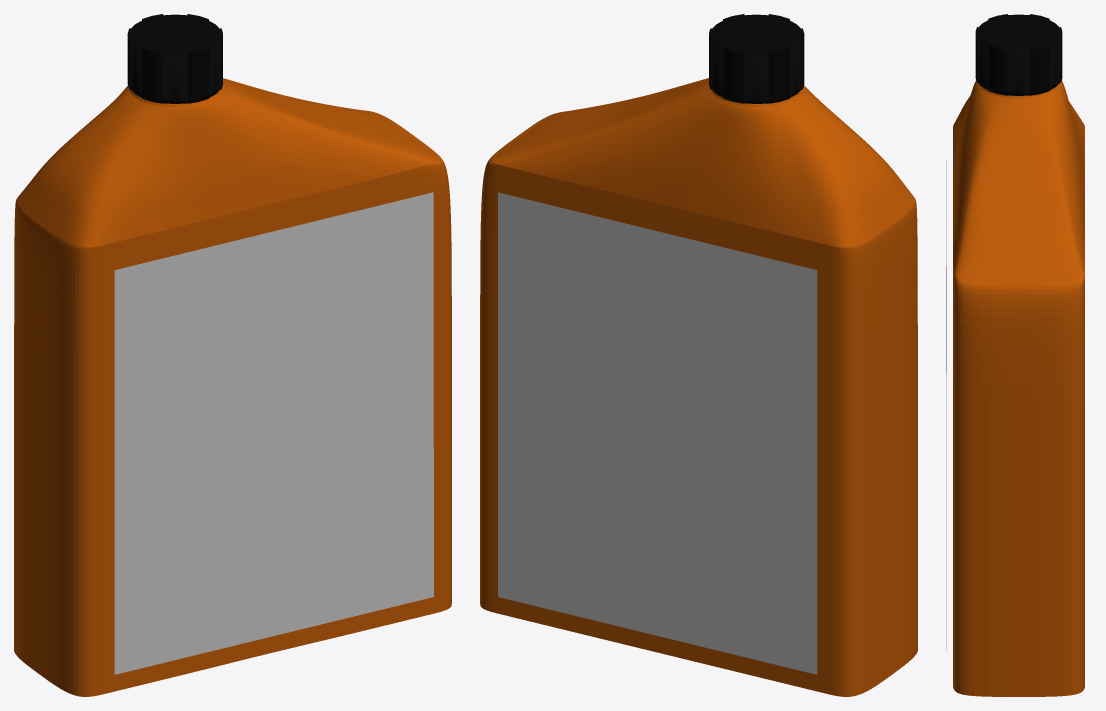
Rendered from tarroaceite2.obj.
3 renders of one model, left to right at view 1: azimuth 30°, elevation 25°; view 2: azimuth 150°, elevation 25°; view 3: azimuth 270°, elevation 25°, orthographic. The views are drawn at different scales.
Parts seen in each view (by area): view 1: fondoAceite, cuerpoTarro, tapa; view 2: fondoAceite.001, cuerpoTarro, tapa; view 3: cuerpoTarro, tapa, fondoAceite.
Boxes of the visible parts, box(x1,y1,x2,y2) form: fondoAceite: box(114, 192, 433, 674); cuerpoTarro: box(14, 78, 451, 696); tapa: box(127, 14, 222, 103); fondoAceite.001: box(498, 192, 817, 674); cuerpoTarro: box(480, 78, 917, 696); tapa: box(709, 14, 804, 103); cuerpoTarro: box(953, 80, 1084, 696); tapa: box(975, 14, 1062, 95); fondoAceite: box(946, 159, 946, 650).
Bounding box in the file's own units: 1.9 × 2.86 × 0.678.
